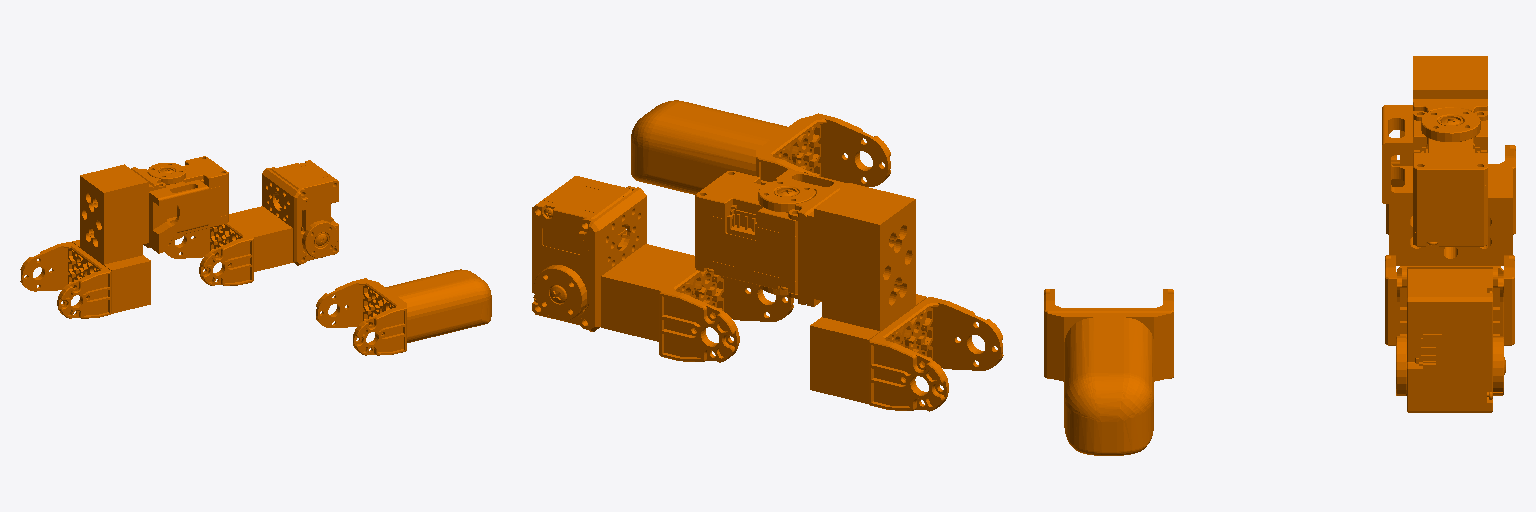
URDF robot description (onshape):
<robot name="onshape">
  <link name="palm_lower">
    <inertial>
      <origin xyz="0.0 0.0 0.0" rpy="0.0 -0.0 0.0"/>
      <mass value="0.237"/>
      <inertia ixx="0.000354094" ixy="-1.193e-06" ixz="-2.445e-06" iyy="0.000260915" iyz="-2.905e-06" izz="0.000529257"/>
    </inertial>
    <visual>
      <geometry>
        <mesh filename="../assets/leap/leap_hand/palm_lower.stl"/>
      </geometry>
      <origin xyz="-0.020095249652862544 0.025757756134899473 -0.034722403578460216" rpy="0.0 -0.0 0.0"/>
      <material name="palm_lower_material">
        <color rgba="0.6039215686274509 0.14901960784313725 0.14901960784313725 1.0"/>
      </material>
    </visual>
    <collision>
      <geometry>
        <mesh filename="../assets/leap/leap_hand/palm_lower.stl"/>
      </geometry>
      <origin xyz="-0.020095249652862544 0.025757756134899473 -0.034722403578460216" rpy="0.0 -0.0 0.0"/>
    </collision>
  </link>
  <link name="mcp_joint_long">
    <inertial>
      <origin xyz="0.0 0.0 0.0" rpy="0.0 -0.0 0.0"/>
      <mass value="0.044"/>
      <inertia ixx="1.1499e-05" ixy="3.049e-06" ixz="1.21e-07" iyy="7.796e-06" iyz="1.12e-07" izz="1.4759e-05"/>
    </inertial>
    <visual>
      <geometry>
        <mesh filename="custom_models/mcp_joint_long.stl"/>
      </geometry>
      <origin xyz="0.008406902261174496 0.0077662438597169954 0.014657354985032912" rpy="1.6375789613221e-15 -1.021047330249102e-30 1.7177968783327987e-31"/>
      <material name="mcp_joint_material">
        <color rgba="0.878 0.467 0.0 1.0"/>
      </material>
    </visual>
    <collision>
      <geometry>
        <mesh filename="custom_models/mcp_joint_long.stl"/>
      </geometry>
      <origin xyz="0.008406902261174496 0.0077662438597169954 0.014657354985032912" rpy="1.6375789613221e-15 -1.021047330249102e-30 1.7177968783327987e-31"/>
    </collision>
  </link>
  <link name="pip">
    <inertial>
      <origin xyz="0.0 0.0 0.0" rpy="0.0 -0.0 0.0"/>
      <mass value="0.032"/>
      <inertia ixx="4.798e-06" ixy="1.2e-08" ixz="4e-09" iyy="2.862e-06" iyz="1.1e-08" izz="4.234e-06"/>
    </inertial>
    <visual>
      <geometry>
        <mesh filename="../assets/leap/leap_hand/pip.stl"/>
      </geometry>
      <origin xyz="0.009643363092271328 0.0002999999999999895 0.0007840340104173765" rpy="-1.5707963267948966 -1.5707963267948963 0.0"/>
      <material name="pip_material">
        <color rgba="0.7490196078431373 0.7490196078431373 0.7490196078431373 1.0"/>
      </material>
    </visual>
    <collision>
      <geometry>
        <mesh filename="../assets/leap/leap_hand/pip.stl"/>
      </geometry>
      <origin xyz="0.009643363092271328 0.0002999999999999895 0.0007840340104173765" rpy="-1.5707963267948966 -1.5707963267948963 0.0"/>
    </collision>
  </link>
  <link name="dip_long">
    <inertial>
      <origin xyz="0.0 0.0 0.0" rpy="0.0 -0.0 0.0"/>
      <mass value="0.037"/>
      <inertia ixx="5.542e-06" ixy="-6.07e-07" ixz="-1.7e-08" iyy="5.727e-06" iyz="-2.3e-08" izz="6.682e-06"/>
    </inertial>
    <visual>
      <geometry>
        <mesh filename="custom_models/dip_long.stl"/>
      </geometry>
      <origin xyz="0.021133352895225003 -0.00843211914670488 0.00978508816209524" rpy="-3.141592653589793 4.507511124216441e-32 4.439548105392361e-32"/>
      <material name="dip_material">
        <color rgba="0.878 0.467 0.0 1.0"/>
      </material>
    </visual>
    <collision>
      <geometry>
        <mesh filename="custom_models/dip_long.stl"/>
      </geometry>
      <origin xyz="0.021133352895225003 -0.00843211914670488 0.00978508816209524" rpy="-3.141592653589793 4.507511124216441e-32 4.439548105392361e-32"/>
    </collision>
  </link>
  <link name="fingertip">
    <inertial>
      <origin xyz="0.0 0.0 0.0" rpy="0.0 -0.0 0.0"/>
      <mass value="0.016"/>
      <inertia ixx="3.368e-06" ixy="1.15e-07" ixz="0.0" iyy="1.556e-06" iyz="0.0" izz="2.863e-06"/>
    </inertial>
    <visual>
      <geometry>
        <mesh filename="../assets/leap/leap_hand/fingertip.stl"/>
      </geometry>
      <origin xyz="0.013286424108533503 -0.006114238386541987 0.014499999999999498" rpy="3.141592653589793 1.1993117970061735e-33 4.439548105392361e-32"/>
      <material name="fingertip_material">
        <color rgba="0.8666666666666667 0.8666666666666667 0.050980392156862744 1.0"/>
      </material>
    </visual>
    <collision>
      <geometry>
        <mesh filename="../assets/leap/leap_hand/fingertip.stl"/>
      </geometry>
      <origin xyz="0.013286424108533503 -0.006114238386541987 0.014499999999999498" rpy="3.141592653589793 1.1993117970061735e-33 4.439548105392361e-32"/>
    </collision>
  </link>
  <link name="pip_4">
    <inertial>
      <origin xyz="0.0 0.0 0.0" rpy="0.0 -0.0 0.0"/>
      <mass value="0.032"/>
      <inertia ixx="4.798e-06" ixy="1.2e-08" ixz="4e-09" iyy="2.862e-06" iyz="1.1e-08" izz="4.234e-06"/>
    </inertial>
    <visual>
      <geometry>
        <mesh filename="../assets/leap/leap_hand/pip.stl"/>
      </geometry>
      <origin xyz="-0.005356636907728671 0.0002999999999999999 0.0007840340104173782" rpy="-1.5707963267948966 -1.5707963267948963 0.0"/>
      <material name="pip_material">
        <color rgba="0.7490196078431373 0.7490196078431373 0.7490196078431373 1.0"/>
      </material>
    </visual>
    <collision>
      <geometry>
        <mesh filename="../assets/leap/leap_hand/pip.stl"/>
      </geometry>
      <origin xyz="-0.005356636907728671 0.0002999999999999999 0.0007840340104173782" rpy="-1.5707963267948966 -1.5707963267948963 0.0"/>
    </collision>
  </link>
  <link name="thumb_pip">
    <inertial>
      <origin xyz="0.0 0.0 0.0" rpy="0.0 -0.0 0.0"/>
      <mass value="0.003"/>
      <inertia ixx="5.93e-07" ixy="0.0" ixz="0.0" iyy="5.49e-07" iyz="0.0" izz="2.24e-07"/>
    </inertial>
    <visual>
      <geometry>
        <mesh filename="../assets/leap/leap_hand/thumb_pip.stl"/>
      </geometry>
      <origin xyz="0.011961920770611187 -5.30825383648903e-16 -0.0158526489566642" rpy="1.5707963267948966 1.6050198443300153e-46 -3.9204996250525193e-59"/>
      <material name="thumb_pip_material">
        <color rgba="0.8666666666666667 0.8666666666666667 0.050980392156862744 1.0"/>
      </material>
    </visual>
    <collision>
      <geometry>
        <mesh filename="../assets/leap/leap_hand/thumb_pip.stl"/>
      </geometry>
      <origin xyz="0.011961920770611187 -5.30825383648903e-16 -0.0158526489566642" rpy="1.5707963267948966 1.6050198443300153e-46 -3.9204996250525193e-59"/>
    </collision>
  </link>
  <link name="thumb_dip">
    <inertial>
      <origin xyz="0.0 0.0 0.0" rpy="0.0 -0.0 0.0"/>
      <mass value="0.038"/>
      <inertia ixx="8.474e-06" ixy="2.41e-07" ixz="2.6e-08" iyy="3.841e-06" iyz="2.5e-08" izz="7.679e-06"/>
    </inertial>
    <visual>
      <geometry>
        <mesh filename="../assets/leap/leap_hand/thumb_dip.stl"/>
      </geometry>
      <origin xyz="0.043968715707239175 0.0579529529737092 -0.008628676449369476" rpy="1.94289029309401e-16 3.27515792264422e-15 1.112375852965736e-46"/>
      <material name="thumb_dip_material">
        <color rgba="0.8666666666666667 0.8666666666666667 0.050980392156862744 1.0"/>
      </material>
    </visual>
    <collision>
      <geometry>
        <mesh filename="../assets/leap/leap_hand/thumb_dip.stl"/>
      </geometry>
      <origin xyz="0.043968715707239175 0.0579529529737092 -0.008628676449369476" rpy="1.94289029309401e-16 3.27515792264422e-15 1.112375852965736e-46"/>
    </collision>
  </link>
  <link name="thumb_fingertip">
    <inertial>
      <origin xyz="0.0 0.0 0.0" rpy="0.0 -0.0 0.0"/>
      <mass value="0.049"/>
      <inertia ixx="2.0372e-05" ixy="-4.89e-07" ixz="-3e-08" iyy="4.336e-06" iyz="-9.7e-08" izz="1.9845e-05"/>
    </inertial>
    <visual>
      <geometry>
        <mesh filename="../assets/leap/leap_hand/thumb_fingertip.stl"/>
      </geometry>
      <origin xyz="0.06255953846266739 0.07845968291139699 0.048992911807332215" rpy="4.379057701015637e-47 -3.33066907387547e-16 1.2042408677791935e-46"/>
      <material name="thumb_fingertip_material">
        <color rgba="0.6039215686274509 0.14901960784313725 0.14901960784313725 1.0"/>
      </material>
    </visual>
    <collision>
      <geometry>
        <mesh filename="../assets/leap/leap_hand/thumb_fingertip.stl"/>
      </geometry>
      <origin xyz="0.06255953846266739 0.07845968291139699 0.048992911807332215" rpy="4.379057701015637e-47 -3.33066907387547e-16 1.2042408677791935e-46"/>
    </collision>
  </link>
  <link name="mcp_joint_2">
    <inertial>
      <origin xyz="0.0 0.0 0.0" rpy="0.0 -0.0 0.0"/>
      <mass value="0.044"/>
      <inertia ixx="1.1499e-05" ixy="3.049e-06" ixz="1.21e-07" iyy="7.796e-06" iyz="1.12e-07" izz="1.4759e-05"/>
    </inertial>
    <visual>
      <geometry>
        <mesh filename="../assets/leap/leap_hand/mcp_joint.stl"/>
      </geometry>
      <origin xyz="0.008406902261174496 0.0077662438597169954 0.014657354985032914" rpy="1.6375789613221e-15 -1.0076465469034e-30 2.1209300131419907e-61"/>
      <material name="mcp_joint_material">
        <color rgba="0.8666666666666667 0.8666666666666667 0.050980392156862744 1.0"/>
      </material>
    </visual>
    <collision>
      <geometry>
        <mesh filename="../assets/leap/leap_hand/mcp_joint.stl"/>
      </geometry>
      <origin xyz="0.008406902261174496 0.0077662438597169954 0.014657354985032914" rpy="1.6375789613221e-15 -1.0076465469034e-30 2.1209300131419907e-61"/>
    </collision>
  </link>
  <link name="pip_2">
    <inertial>
      <origin xyz="0.0 0.0 0.0" rpy="0.0 -0.0 0.0"/>
      <mass value="0.032"/>
      <inertia ixx="4.798e-06" ixy="1.2e-08" ixz="4e-09" iyy="2.862e-06" iyz="1.1e-08" izz="4.234e-06"/>
    </inertial>
    <visual>
      <geometry>
        <mesh filename="../assets/leap/leap_hand/pip.stl"/>
      </geometry>
      <origin xyz="0.009643363092271328 0.0002999999999999947 0.0007840340104173765" rpy="-1.5707963267948966 -1.5707963267948963 0.0"/>
      <material name="pip_material">
        <color rgba="0.7490196078431373 0.7490196078431373 0.7490196078431373 1.0"/>
      </material>
    </visual>
    <collision>
      <geometry>
        <mesh filename="../assets/leap/leap_hand/pip.stl"/>
      </geometry>
      <origin xyz="0.009643363092271328 0.0002999999999999947 0.0007840340104173765" rpy="-1.5707963267948966 -1.5707963267948963 0.0"/>
    </collision>
  </link>
  <link name="dip_2">
    <inertial>
      <origin xyz="0.0 0.0 0.0" rpy="0.0 -0.0 0.0"/>
      <mass value="0.037"/>
      <inertia ixx="5.542e-06" ixy="-6.07e-07" ixz="-1.7e-08" iyy="5.727e-06" iyz="-2.3e-08" izz="6.682e-06"/>
    </inertial>
    <visual>
      <geometry>
        <mesh filename="../assets/leap/leap_hand/dip.stl"/>
      </geometry>
      <origin xyz="0.021133352895225003 -0.008432119146704865 0.009785088162095237" rpy="-3.141592653589793 2.1146933785271956e-32 1.4408183216511869e-31"/>
      <material name="dip_material">
        <color rgba="0.8666666666666667 0.8666666666666667 0.050980392156862744 1.0"/>
      </material>
    </visual>
    <collision>
      <geometry>
        <mesh filename="../assets/leap/leap_hand/dip.stl"/>
      </geometry>
      <origin xyz="0.021133352895225003 -0.008432119146704865 0.009785088162095237" rpy="-3.141592653589793 2.1146933785271956e-32 1.4408183216511869e-31"/>
    </collision>
  </link>
  <link name="fingertip_2">
    <inertial>
      <origin xyz="0.0 0.0 0.0" rpy="0.0 -0.0 0.0"/>
      <mass value="0.016"/>
      <inertia ixx="3.368e-06" ixy="1.15e-07" ixz="0.0" iyy="1.556e-06" iyz="0.0" izz="2.863e-06"/>
    </inertial>
    <visual>
      <geometry>
        <mesh filename="../assets/leap/leap_hand/fingertip.stl"/>
      </geometry>
      <origin xyz="0.013286424108533496 -0.006114238386542001 0.014499999999999496" rpy="3.141592653589793 -4.317959788283594e-33 1.4408183216511869e-31"/>
      <material name="fingertip_material">
        <color rgba="0.8666666666666667 0.8666666666666667 0.050980392156862744 1.0"/>
      </material>
    </visual>
    <collision>
      <geometry>
        <mesh filename="../assets/leap/leap_hand/fingertip.stl"/>
      </geometry>
      <origin xyz="0.013286424108533496 -0.006114238386542001 0.014499999999999496" rpy="3.141592653589793 -4.317959788283594e-33 1.4408183216511869e-31"/>
    </collision>
  </link>
  <link name="mcp_joint_3">
    <inertial>
      <origin xyz="0.0 0.0 0.0" rpy="0.0 -0.0 0.0"/>
      <mass value="0.044"/>
      <inertia ixx="1.1499e-05" ixy="3.049e-06" ixz="1.21e-07" iyy="7.796e-06" iyz="1.12e-07" izz="1.4759e-05"/>
    </inertial>
    <visual>
      <geometry>
        <mesh filename="../assets/leap/leap_hand/mcp_joint.stl"/>
      </geometry>
      <origin xyz="0.0084069022611745 0.007766243859716996 0.014657354985032914" rpy="1.6375789613221e-15 -1.0059504988632627e-30 5.729641584552035e-32"/>
      <material name="mcp_joint_material">
        <color rgba="0.8666666666666667 0.8666666666666667 0.050980392156862744 1.0"/>
      </material>
    </visual>
    <collision>
      <geometry>
        <mesh filename="../assets/leap/leap_hand/mcp_joint.stl"/>
      </geometry>
      <origin xyz="0.0084069022611745 0.007766243859716996 0.014657354985032914" rpy="1.6375789613221e-15 -1.0059504988632627e-30 5.729641584552035e-32"/>
    </collision>
  </link>
  <link name="pip_3">
    <inertial>
      <origin xyz="0.0 0.0 0.0" rpy="0.0 -0.0 0.0"/>
      <mass value="0.032"/>
      <inertia ixx="4.798e-06" ixy="1.2e-08" ixz="4e-09" iyy="2.862e-06" iyz="1.1e-08" izz="4.234e-06"/>
    </inertial>
    <visual>
      <geometry>
        <mesh filename="../assets/leap/leap_hand/pip.stl"/>
      </geometry>
      <origin xyz="0.009643363092271331 0.00029999999999998084 0.0007840340104173765" rpy="-1.5707963267948966 -1.5707963267948963 0.0"/>
      <material name="pip_material">
        <color rgba="0.7490196078431373 0.7490196078431373 0.7490196078431373 1.0"/>
      </material>
    </visual>
    <collision>
      <geometry>
        <mesh filename="../assets/leap/leap_hand/pip.stl"/>
      </geometry>
      <origin xyz="0.009643363092271331 0.00029999999999998084 0.0007840340104173765" rpy="-1.5707963267948966 -1.5707963267948963 0.0"/>
    </collision>
  </link>
  <link name="dip_3">
    <inertial>
      <origin xyz="0.0 0.0 0.0" rpy="0.0 -0.0 0.0"/>
      <mass value="0.037"/>
      <inertia ixx="5.542e-06" ixy="-6.07e-07" ixz="-1.7e-08" iyy="5.727e-06" iyz="-2.3e-08" izz="6.682e-06"/>
    </inertial>
    <visual>
      <geometry>
        <mesh filename="../assets/leap/leap_hand/dip.stl"/>
      </geometry>
      <origin xyz="0.021133352895225006 -0.008432119146704865 0.009785088162095237" rpy="-3.141592653589793 -1.4095651113919093e-33 1.5565411607615035e-32"/>
      <material name="dip_material">
        <color rgba="0.8666666666666667 0.8666666666666667 0.050980392156862744 1.0"/>
      </material>
    </visual>
    <collision>
      <geometry>
        <mesh filename="../assets/leap/leap_hand/dip.stl"/>
      </geometry>
      <origin xyz="0.021133352895225006 -0.008432119146704865 0.009785088162095237" rpy="-3.141592653589793 -1.4095651113919093e-33 1.5565411607615035e-32"/>
    </collision>
  </link>
  <link name="fingertip_3_long">
    <inertial>
      <origin xyz="0.0 0.0 0.0" rpy="0.0 -0.0 0.0"/>
      <mass value="0.016"/>
      <inertia ixx="3.368e-06" ixy="1.15e-07" ixz="0.0" iyy="1.556e-06" iyz="0.0" izz="2.863e-06"/>
    </inertial>
    <visual>
      <geometry>
        <mesh filename="custom_models/fingertip_long.stl"/>
      </geometry>
      <origin xyz="0.013286424108533501 -0.006114238386541987 0.0144999999999995" rpy="3.141592653589793 8.61707169505754e-33 1.5565411607615035e-32"/>
      <material name="fingertip_material">
        <color rgba="0.878 0.467 0.0 1.0"/>
      </material>
    </visual>
    <collision>
      <geometry>
        <mesh filename="custom_models/fingertip_long.stl"/>
      </geometry>
      <origin xyz="0.013286424108533501 -0.006114238386541987 0.0144999999999995" rpy="3.141592653589793 8.61707169505754e-33 1.5565411607615035e-32"/>
    </collision>
  </link>
  <joint name="1" type="revolute">
    <parent link="palm_lower"/>
    <child link="mcp_joint_long"/>
    <origin xyz="-0.007095249652862546 0.023057756134899472 -0.01872240357846022" rpy="1.570796326794895 1.5707963267948946 0.0"/>
    <axis xyz="0.0 0.0 -1.0"/>
    <limit effort="0.95" velocity="8.48" lower="-0.314" upper="2.23"/>
  </joint>
  <joint name="0" type="revolute">
    <parent link="mcp_joint_long"/>
    <child link="pip"/>
    <origin xyz="-0.012200000000000007713 0.053099999999999994982 0.014500000000000000736" rpy="-1.5707963267948966 -1.0065212660796337e-15 1.5707963267948943"/>
    <axis xyz="0.0 0.0 -1.0"/>
    <limit effort="0.95" velocity="8.48" lower="-1.047" upper="1.047"/>
  </joint>
  <joint name="2" type="revolute">
    <parent link="pip"/>
    <child link="dip_long"/>
    <origin xyz="0.014999999999999968 0.014299999999999905 -0.012999999999999824" rpy="1.570796326794896 -1.5707963267948963 0.0"/>
    <axis xyz="0.0 0.0 -1.0"/>
    <limit effort="0.95" velocity="8.48" lower="-0.506" upper="1.885"/>
  </joint>
  <joint name="3" type="revolute">
    <parent link="dip_long"/>
    <child link="fingertip"/>
    <origin xyz="-4.0880582495572692636e-09 -0.051100004210367367397 0.00020000000000007858714" rpy="4.5935029425113685e-17 -2.8730071914463795e-16 4.439548105392361e-32"/>
    <axis xyz="0.0 0.0 -1.0"/>
    <limit effort="0.95" velocity="8.48" lower="-0.366" upper="2.042"/>
  </joint>
  <joint name="12" type="revolute">
    <parent link="palm_lower"/>
    <child link="pip_4"/>
    <origin xyz="-0.06939524965286253 -0.0012422438651005258 -0.021622403578460216" rpy="-8.238176646493942e-17 1.5707963267948957 0.0"/>
    <axis xyz="0.0 0.0 -1.0"/>
    <limit effort="0.95" velocity="8.48" lower="-0.349" upper="2.094"/>
  </joint>
  <joint name="13" type="revolute">
    <parent link="pip_4"/>
    <child link="thumb_pip"/>
    <origin xyz="-2.7755575615628914e-17 0.014300000000000005 -0.013000000000000012" rpy="1.570796326794896 -1.5707963267948963 0.0"/>
    <axis xyz="0.0 0.0 -1.0"/>
    <limit effort="0.95" velocity="8.48" lower="-0.47" upper="2.443"/>
  </joint>
  <joint name="14" type="revolute">
    <parent link="thumb_pip"/>
    <child link="thumb_dip"/>
    <origin xyz="0.0 0.014499999999999966 -0.017000000000000053" rpy="-1.5707963267948966 1.6050198443300131e-46 -1.9721522630516625e-31"/>
    <axis xyz="0.0 0.0 -1.0"/>
    <limit effort="0.95" velocity="8.48" lower="-1.2" upper="1.9"/>
  </joint>
  <joint name="15" type="revolute">
    <parent link="thumb_dip"/>
    <child link="thumb_fingertip"/>
    <origin xyz="-1.249000902703301e-16 0.046599999999999864 0.0001999999999999771" rpy="1.506395849149178e-44 5.423418723393526e-31 3.141592653589793"/>
    <axis xyz="0.0 0.0 -1.0"/>
    <limit effort="0.95" velocity="8.48" lower="-1.34" upper="1.88"/>
  </joint>
  <joint name="5" type="revolute">
    <parent link="palm_lower"/>
    <child link="mcp_joint_2"/>
    <origin xyz="-0.007095249652862546 -0.022392243865100525 -0.01872240357846022" rpy="1.570796326794895 1.5707963267948946 0.0"/>
    <axis xyz="0.0 0.0 -1.0"/>
    <limit effort="0.95" velocity="8.48" lower="-0.314" upper="2.23"/>
  </joint>
  <joint name="4" type="revolute">
    <parent link="mcp_joint_2"/>
    <child link="pip_2"/>
    <origin xyz="-0.012200000000000008 0.038099999999999995 0.0145" rpy="-1.5707963267948966 -1.0065212660796337e-15 1.5707963267948943"/>
    <axis xyz="0.0 0.0 -1.0"/>
    <limit effort="0.95" velocity="8.48" lower="-1.047" upper="1.047"/>
  </joint>
  <joint name="6" type="revolute">
    <parent link="pip_2"/>
    <child link="dip_2"/>
    <origin xyz="0.014999999999999968 0.014299999999999905 -0.012999999999999824" rpy="1.570796326794896 -1.5707963267948963 0.0"/>
    <axis xyz="0.0 0.0 -1.0"/>
    <limit effort="0.95" velocity="8.48" lower="-0.506" upper="1.885"/>
  </joint>
  <joint name="7" type="revolute">
    <parent link="dip_2"/>
    <child link="fingertip_2"/>
    <origin xyz="-4.088058249557269e-09 -0.03610000421036737 0.0002000000000000786" rpy="4.5935029425113685e-17 -2.8730071914463795e-16 4.439548105392361e-32"/>
    <axis xyz="0.0 0.0 -1.0"/>
    <limit effort="0.95" velocity="8.48" lower="-0.366" upper="2.042"/>
  </joint>
  <joint name="9" type="revolute">
    <parent link="palm_lower"/>
    <child link="mcp_joint_3"/>
    <origin xyz="-0.007095249652862546 -0.06784224386510052 -0.01872240357846022" rpy="1.570796326794895 1.5707963267948946 0.0"/>
    <axis xyz="0.0 0.0 -1.0"/>
    <limit effort="0.95" velocity="8.48" lower="-0.314" upper="2.23"/>
  </joint>
  <joint name="8" type="revolute">
    <parent link="mcp_joint_3"/>
    <child link="pip_3"/>
    <origin xyz="-0.012200000000000008 0.038099999999999995 0.0145" rpy="-1.5707963267948966 -1.0065212660796337e-15 1.5707963267948943"/>
    <axis xyz="0.0 0.0 -1.0"/>
    <limit effort="0.95" velocity="8.48" lower="-1.047" upper="1.047"/>
  </joint>
  <joint name="10" type="revolute">
    <parent link="pip_3"/>
    <child link="dip_3"/>
    <origin xyz="0.014999999999999968 0.014299999999999905 -0.012999999999999824" rpy="1.570796326794896 -1.5707963267948963 0.0"/>
    <axis xyz="0.0 0.0 -1.0"/>
    <limit effort="0.95" velocity="8.48" lower="-0.506" upper="1.885"/>
  </joint>
  <joint name="11" type="revolute">
    <parent link="dip_3"/>
    <child link="fingertip_3_long"/>
    <origin xyz="-4.088058249557269e-09 -0.03610000421036737 0.0002000000000000786" rpy="4.5935029425113685e-17 -2.8730071914463795e-16 4.439548105392361e-32"/>
    <axis xyz="0.0 0.0 -1.0"/>
    <limit effort="0.95" velocity="8.48" lower="-0.366" upper="2.042"/>
  </joint>
</robot>

--- What the picture shows (computed from the rendered views, not written in the file) ---
3 views of the same robot in one strip: view 1: azimuth 30°, elevation 25°; view 2: azimuth 150°, elevation 25°; view 3: azimuth 270°, elevation 25° (orthographic).
Model onshape with 17 links and 16 joints (16 revolute), rooted at palm_lower, posed every joint at zero.
Visible links, largest first — view 1: mcp_joint_long, dip_long, fingertip_3_long; view 2: mcp_joint_long, dip_long, fingertip_3_long; view 3: mcp_joint_long, dip_long, fingertip_3_long.
Link boxes in pixels (left/top/right/bottom): mcp_joint_long: left=20, top=156, right=228, bottom=318; dip_long: left=164, top=160, right=338, bottom=285; fingertip_3_long: left=316, top=269, right=491, bottom=355; mcp_joint_long: left=695, top=169, right=1003, bottom=411; dip_long: left=532, top=176, right=793, bottom=362; fingertip_3_long: left=631, top=100, right=890, bottom=194; mcp_joint_long: left=1382, top=56, right=1515, bottom=265; dip_long: left=1385, top=255, right=1514, bottom=412; fingertip_3_long: left=1044, top=289, right=1173, bottom=455.
Bounding box of the posed robot: 0.1616 × 0.1259 × 0.0549 m (x, y, z).
Meshes: 11 distinct files referenced, 3 mesh visuals loaded (3 binary STL); not drawn: 14 (reference not matched to a file when rendering).